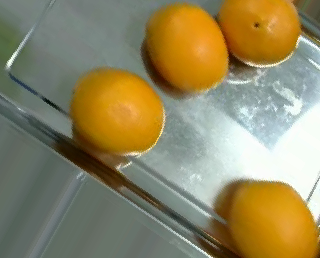Orange: (69, 67, 166, 156), (144, 3, 227, 93), (228, 178, 319, 258), (217, 1, 301, 67)
